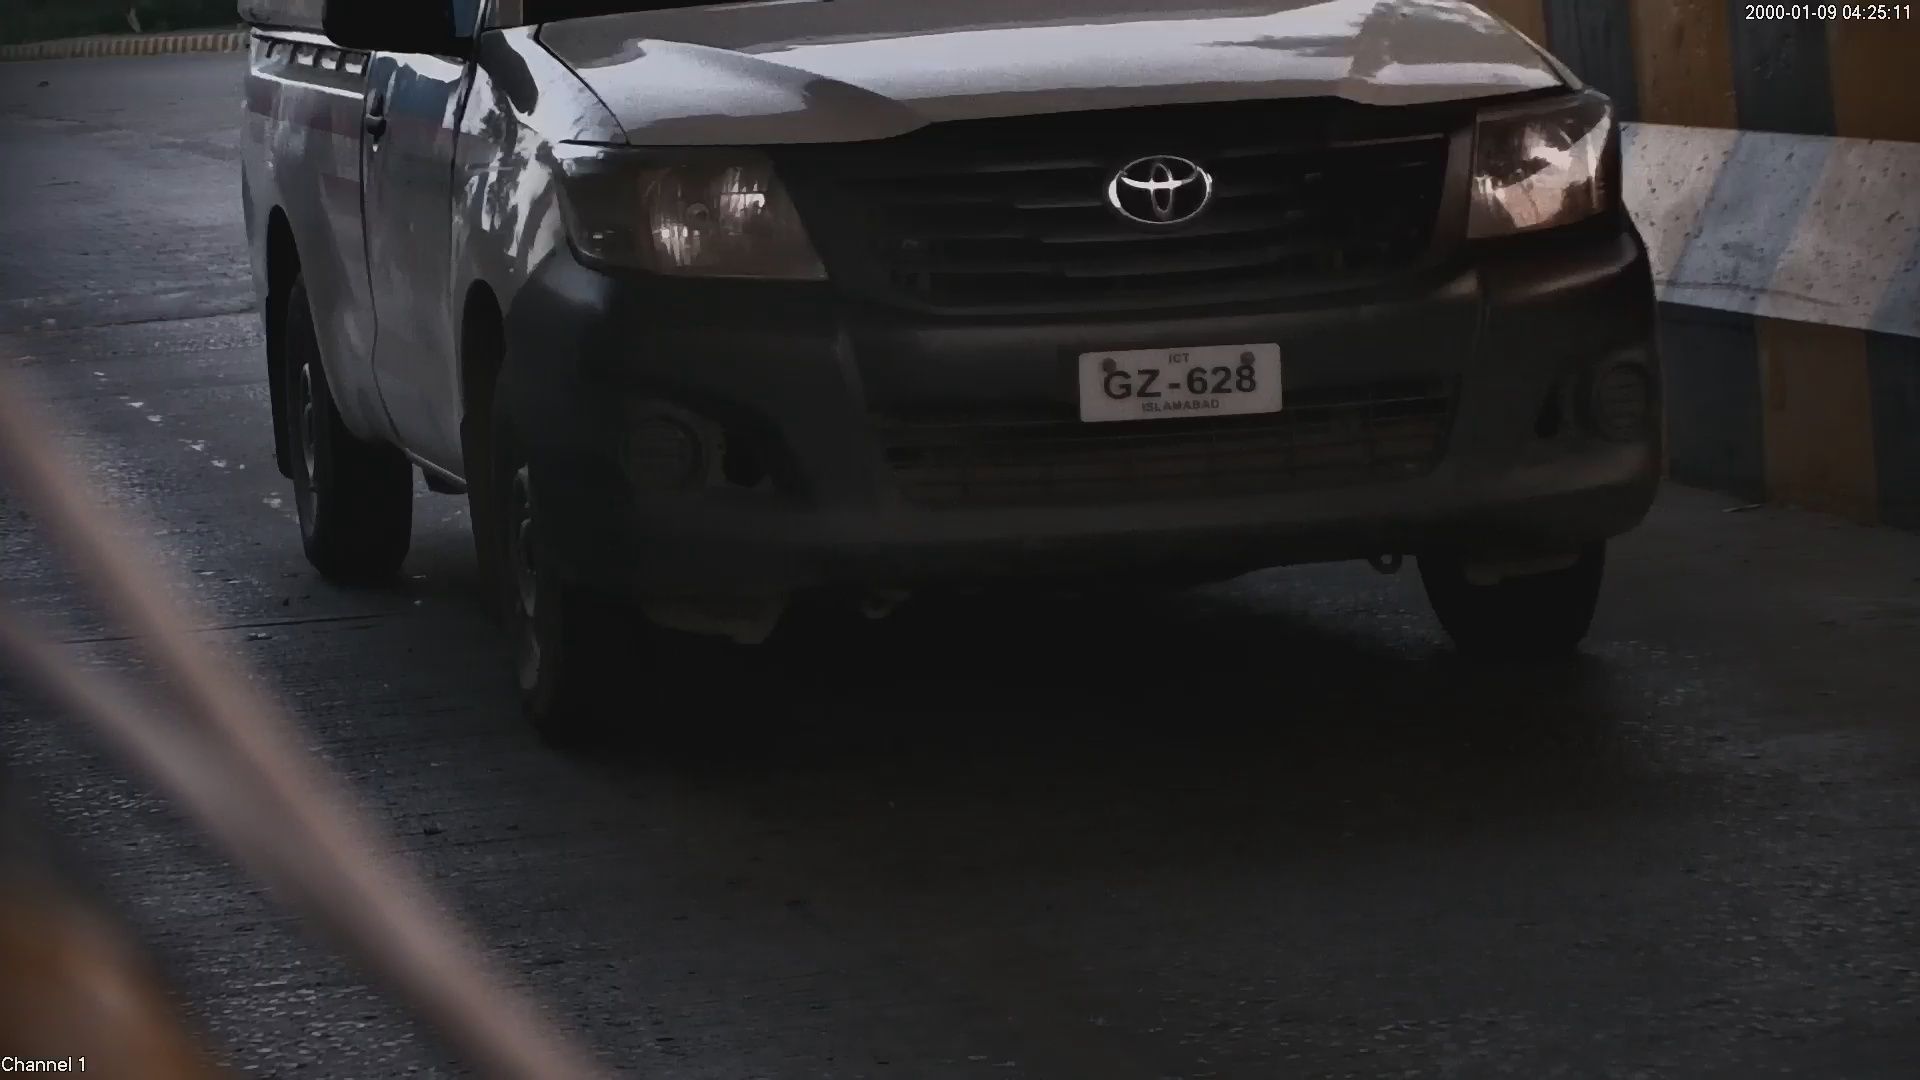Number_Plate: (1056, 333, 1291, 431)
Undefined: (578, 146, 804, 288), (1454, 96, 1628, 236), (1108, 159, 1223, 227)
